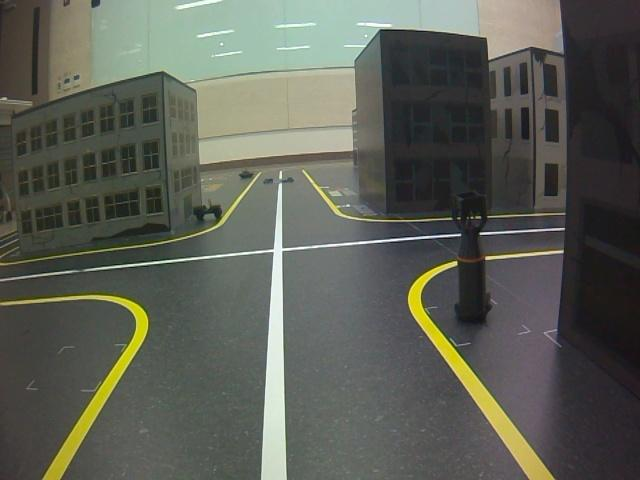Car: (191, 194, 225, 222)
Missile: (447, 185, 491, 325)
Tank: (237, 169, 254, 181)
